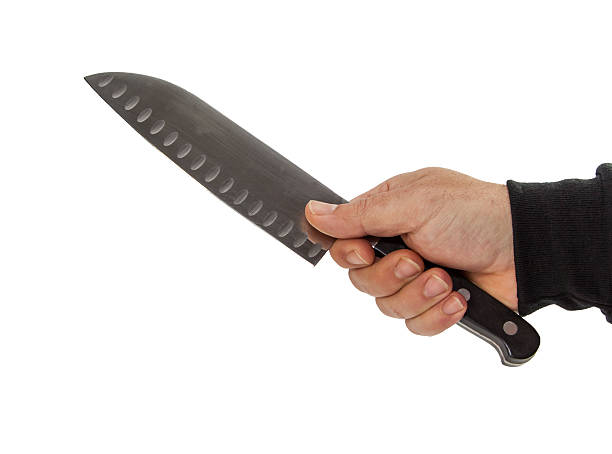knife: (81, 68, 543, 372)
